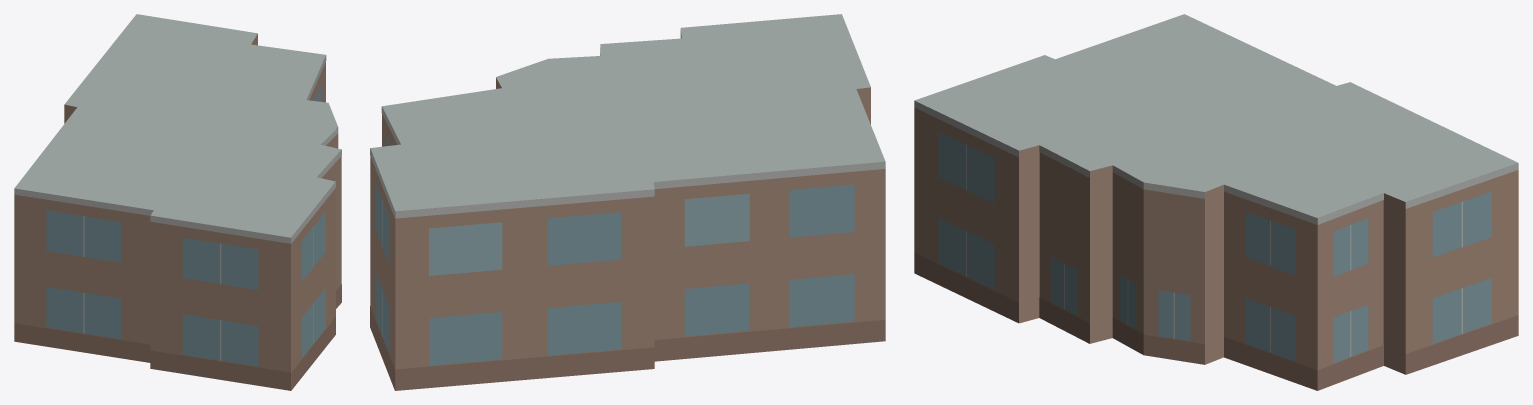
The model's file is survey-upis-32885676.glb.
3 views of the same model, side by side, from view 1: azimuth 30°, elevation 25°; view 2: azimuth 150°, elevation 25°; view 3: azimuth 270°, elevation 25° (orthographic). The views are drawn at different scales.
Visible parts, largest first — view 1: survey-upis-32885676.tmp; view 2: survey-upis-32885676.tmp; view 3: survey-upis-32885676.tmp.
Part boxes in pixels (left/top/right/bottom): survey-upis-32885676.tmp: left=14, top=14, right=341, bottom=390; survey-upis-32885676.tmp: left=370, top=14, right=885, bottom=390; survey-upis-32885676.tmp: left=914, top=14, right=1518, bottom=390.
Size of the model in its own units: 15.47 by 6.1 by 19.35.
